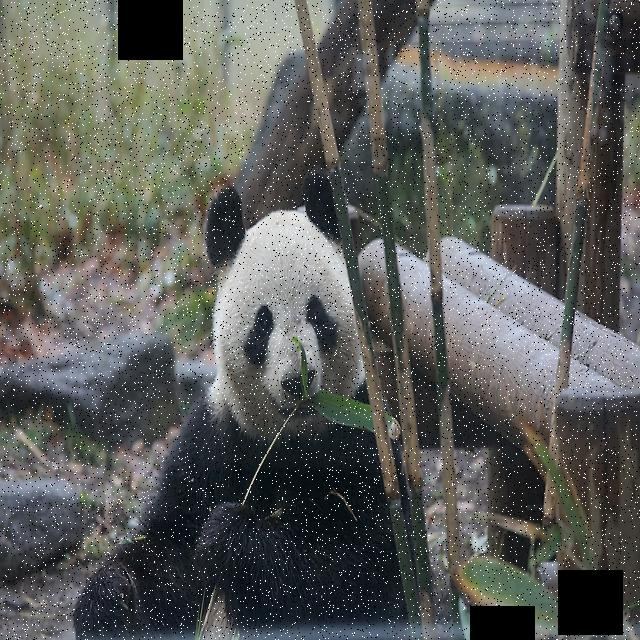Bear: (66, 163, 450, 640)
